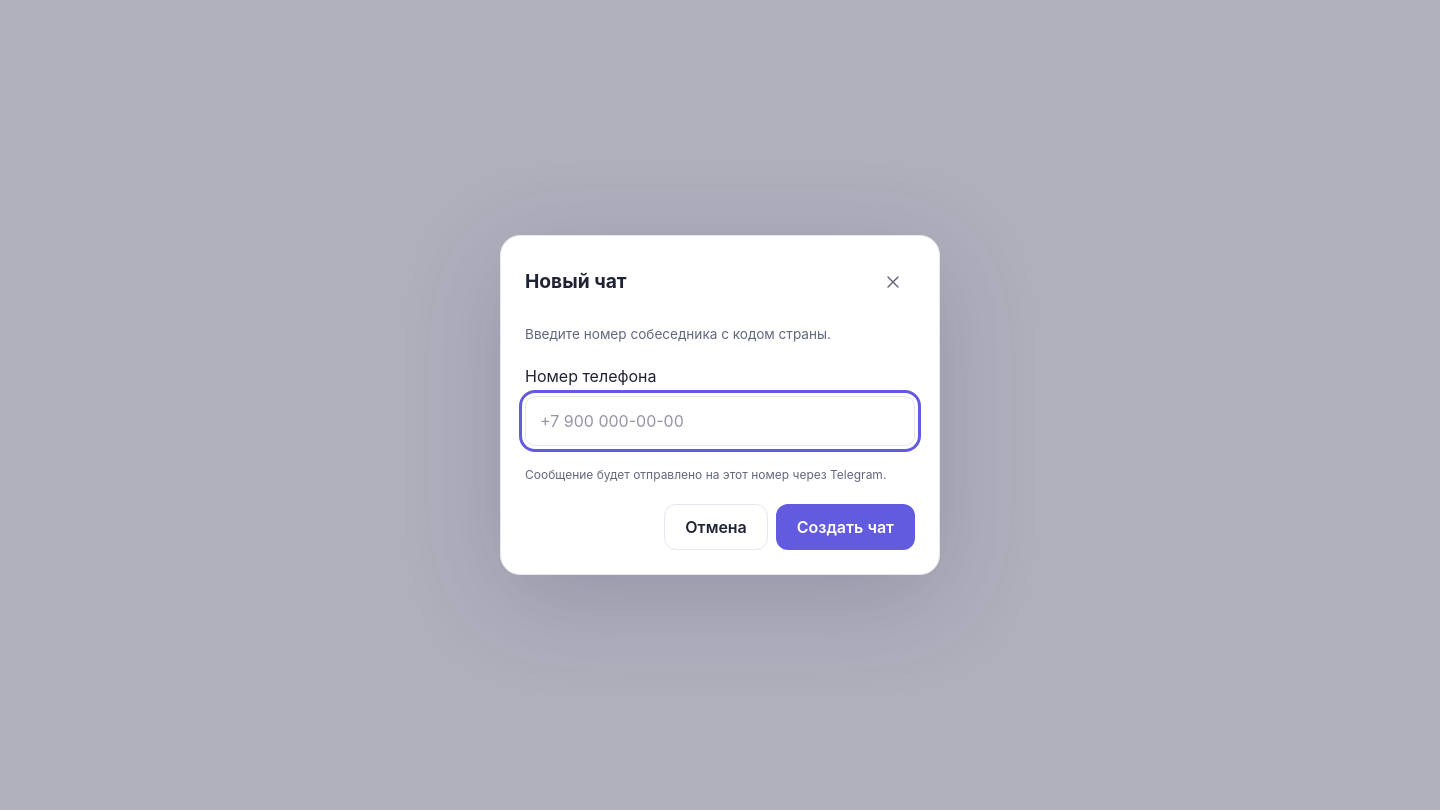
Test: create chat dialog › shows an error for an invalid phone number
Type "123" into the field labelled "Номер телефона" at (720, 421), box [525,396,915,446]
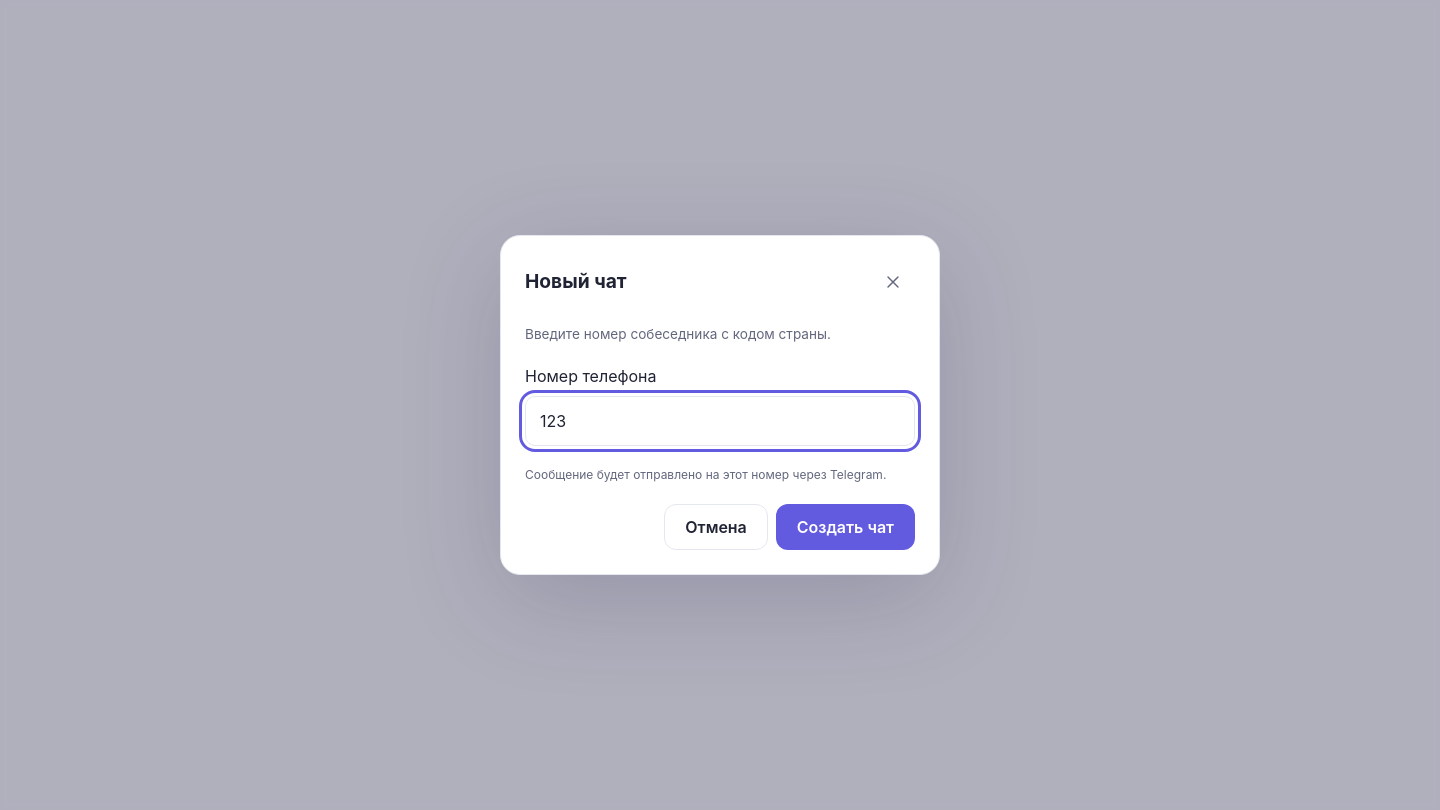
Click the button "Создать чат" at (845, 527), box [776,504,915,550]
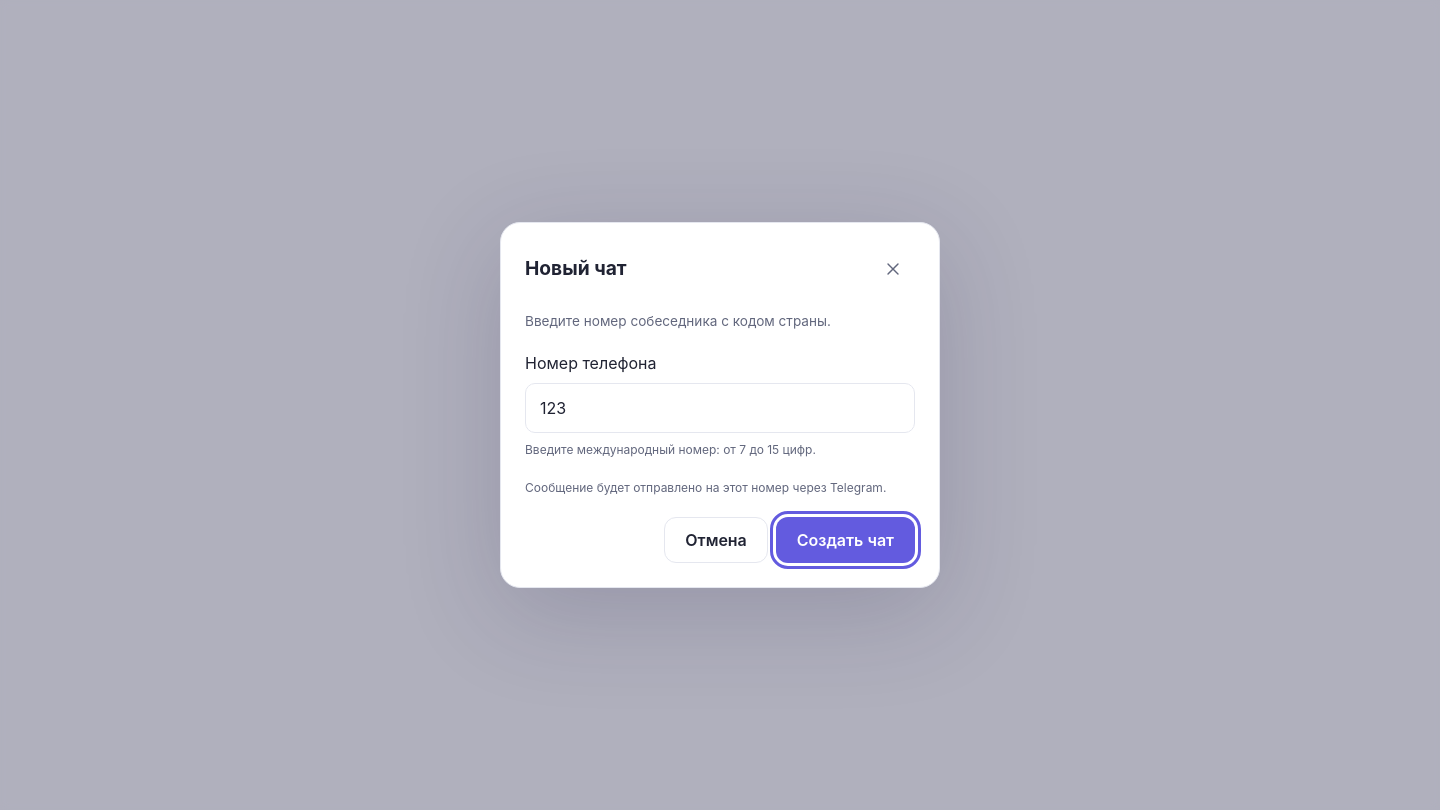
Check: the text "Введите международный номер: от 7 до 15 цифр." is shown, box [525,442,816,457]
